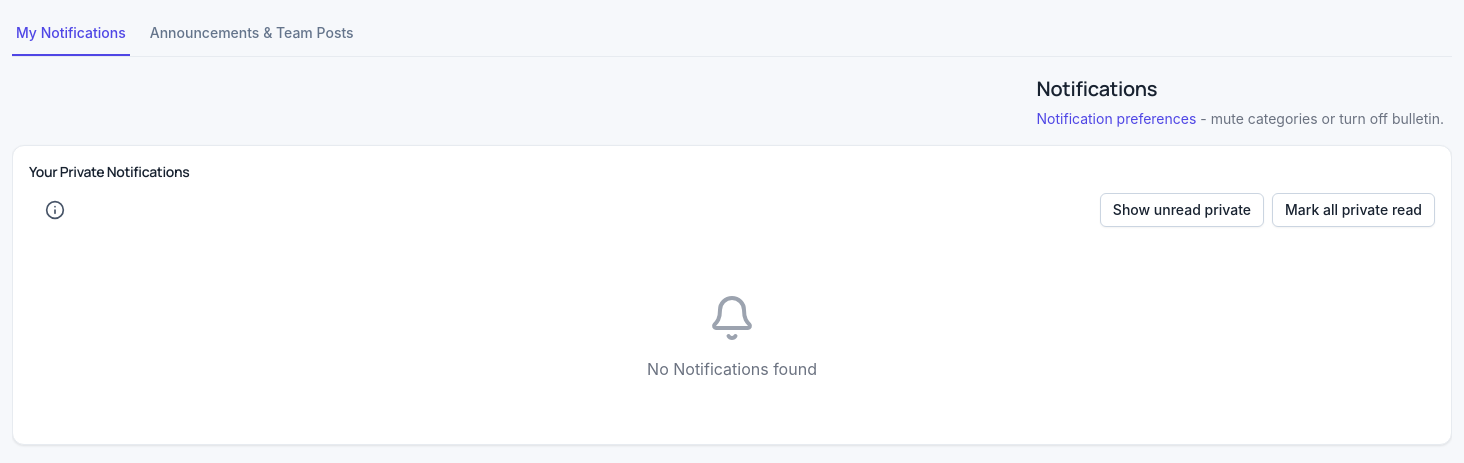
Test case: notification feature tabs › keeps private notification actions separate from posting an announcement
Expected: the button "Mark all private read" is shown, [1272, 193, 1435, 227]
Expected: the button "New team post" is not shown
Click the tab "Announcements & Team Posts" at coordinates (252, 34), box [146, 12, 358, 56]
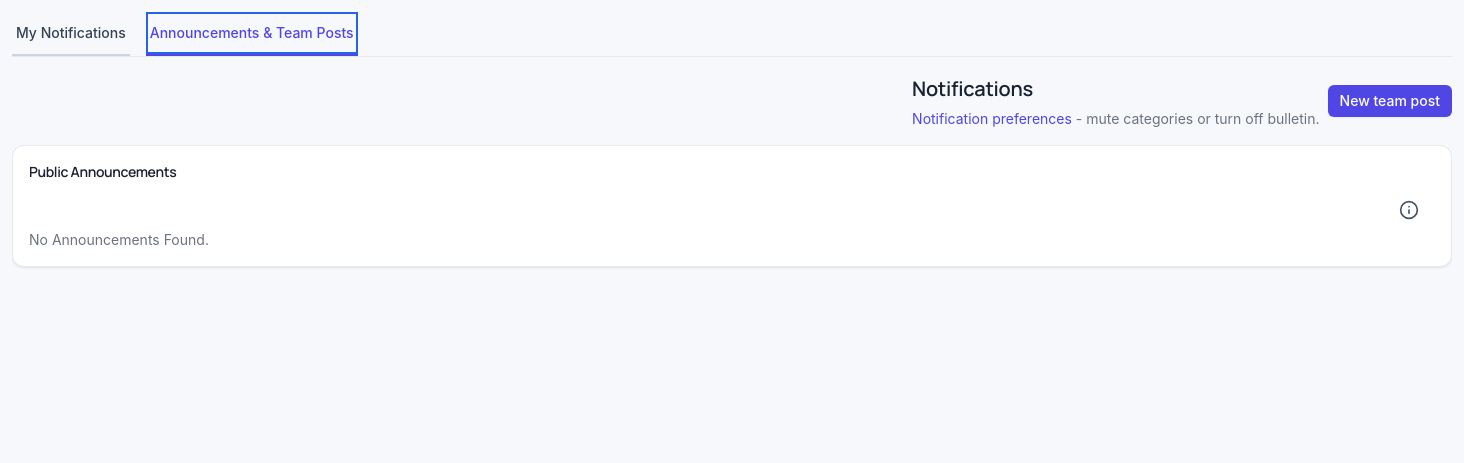
Expected: the button "Mark all private read" is gone
Expected: the button "New team post" is shown, [1328, 85, 1452, 117]
